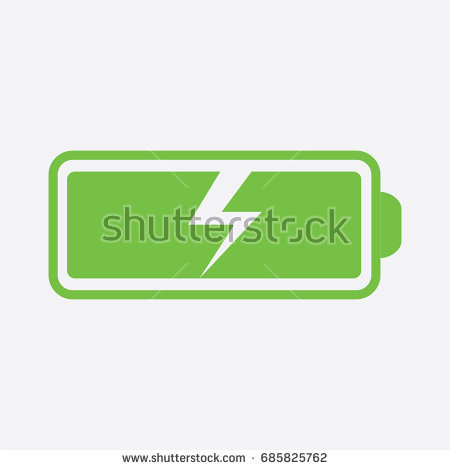charging sign: (32, 139, 440, 319)
